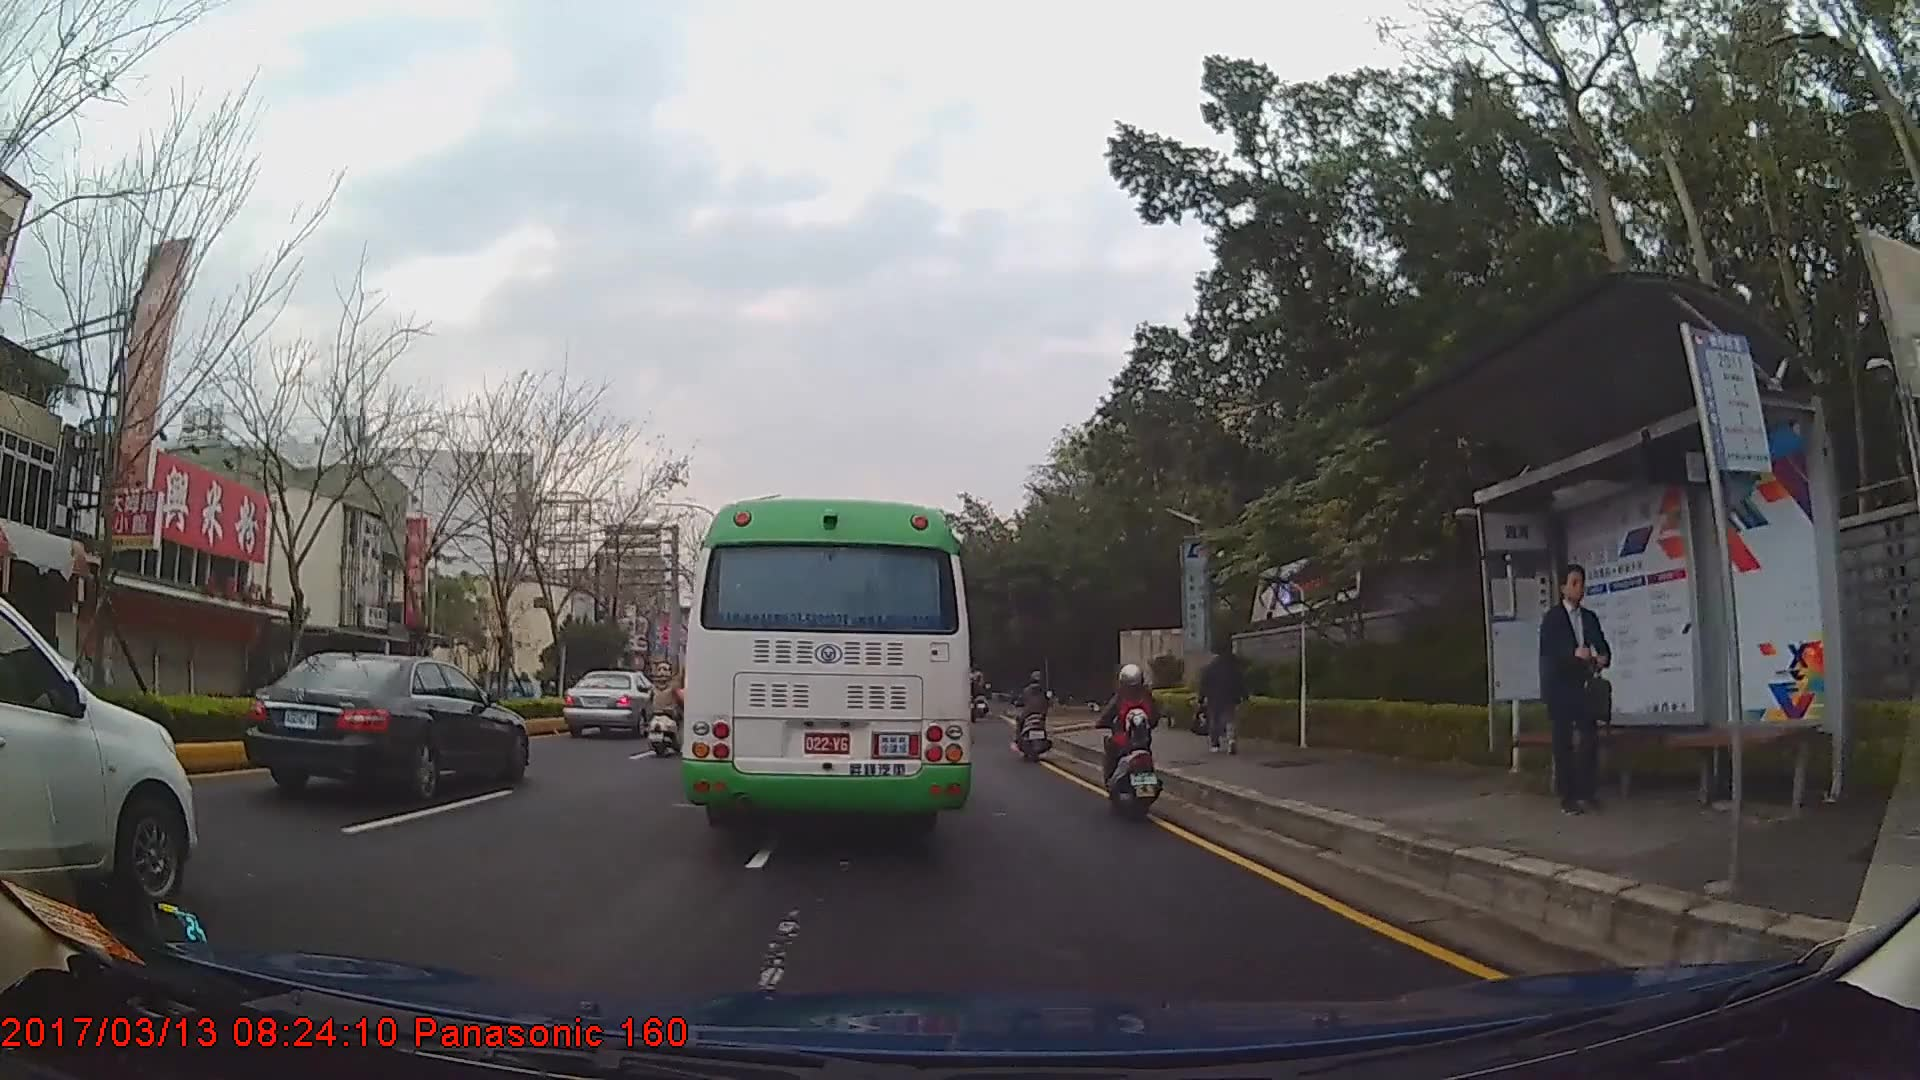pedestrian: (1539, 568, 1615, 819), (1194, 640, 1250, 761)
rider: (1097, 661, 1162, 822), (1013, 668, 1056, 763), (649, 664, 681, 759), (961, 672, 981, 713)
vehicle: (681, 502, 970, 845), (0, 581, 196, 906), (242, 650, 529, 804), (563, 668, 660, 740)
